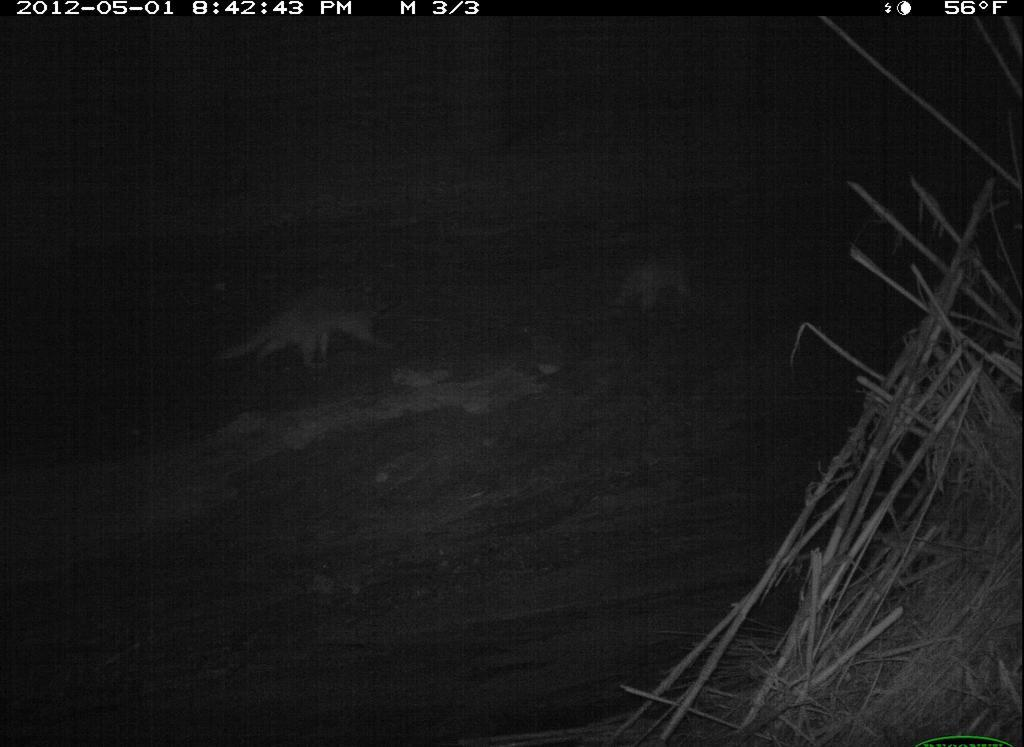raccoon: (200, 269, 415, 382), (591, 232, 724, 329)
